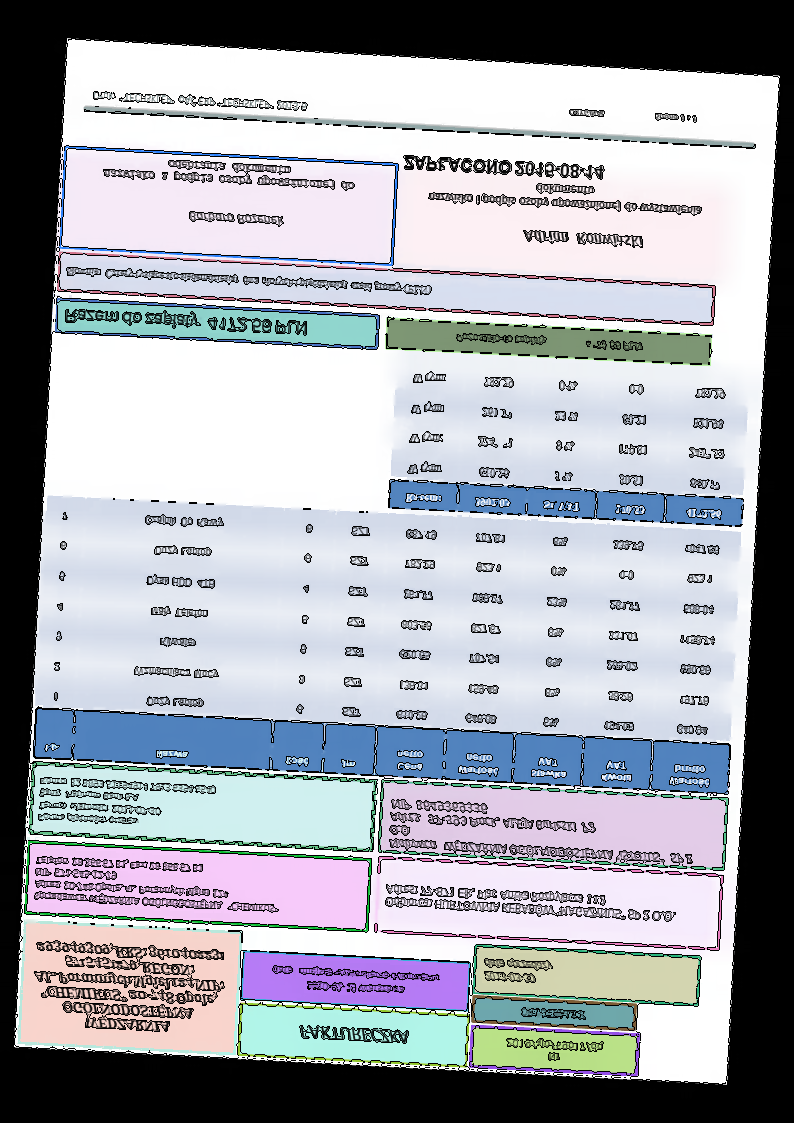Table: (31, 492, 744, 796), (386, 355, 752, 529)
TextBox: (385, 796, 698, 869), (28, 937, 230, 1037), (30, 851, 284, 916), (382, 879, 679, 926), (64, 262, 433, 299), (426, 177, 707, 220), (101, 154, 358, 197), (36, 775, 216, 834), (63, 304, 310, 340), (268, 962, 442, 1001), (400, 152, 604, 184), (89, 88, 311, 117), (452, 328, 644, 355), (503, 1034, 606, 1067), (520, 227, 645, 250), (296, 1023, 410, 1048), (567, 106, 700, 127), (480, 954, 556, 989), (185, 208, 288, 230), (517, 1005, 589, 1024)
